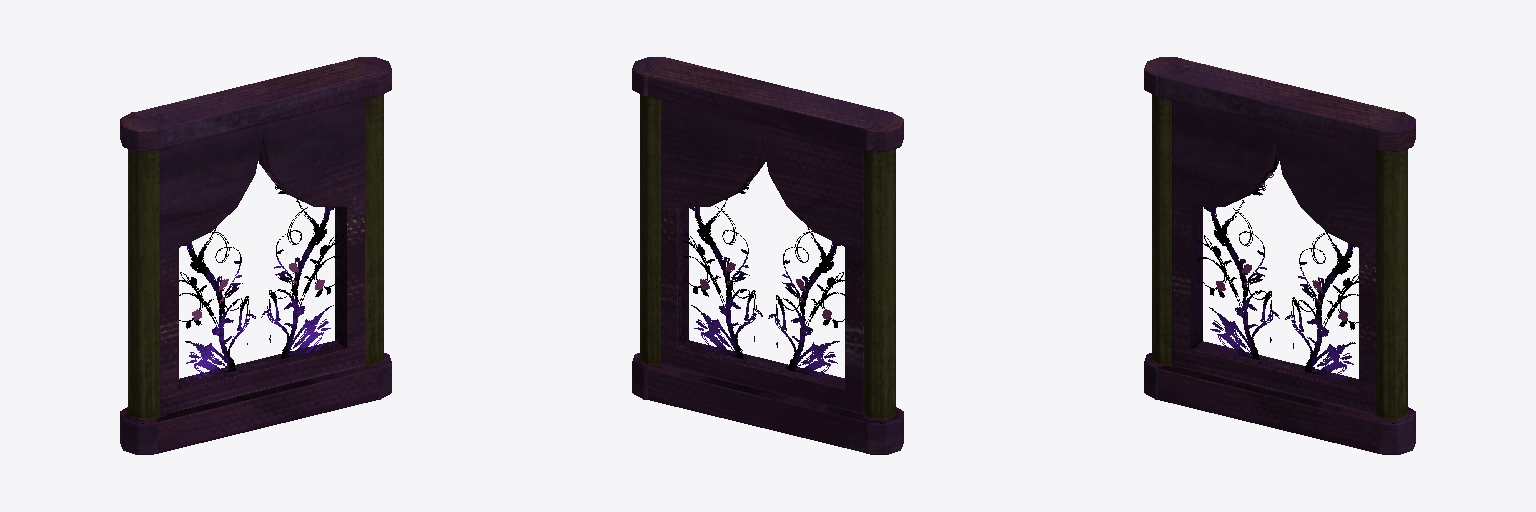
3 renders of one model, left to right at view 1: azimuth 30°, elevation 25°; view 2: azimuth 150°, elevation 25°; view 3: azimuth 330°, elevation 25°, orthographic.
Visible parts, largest first — view 1: MANOR_WINDOW_2_001; view 2: MANOR_WINDOW_2_001; view 3: MANOR_WINDOW_2_001.
Part boxes in pixels (left/top/right/bottom): MANOR_WINDOW_2_001: left=120, top=57, right=391, bottom=454; MANOR_WINDOW_2_001: left=632, top=57, right=903, bottom=454; MANOR_WINDOW_2_001: left=1144, top=57, right=1415, bottom=454.
Bounding box in the file's own units: 2.57 × 3 × 0.4135.
Materials: 3 (3 with a texture image).